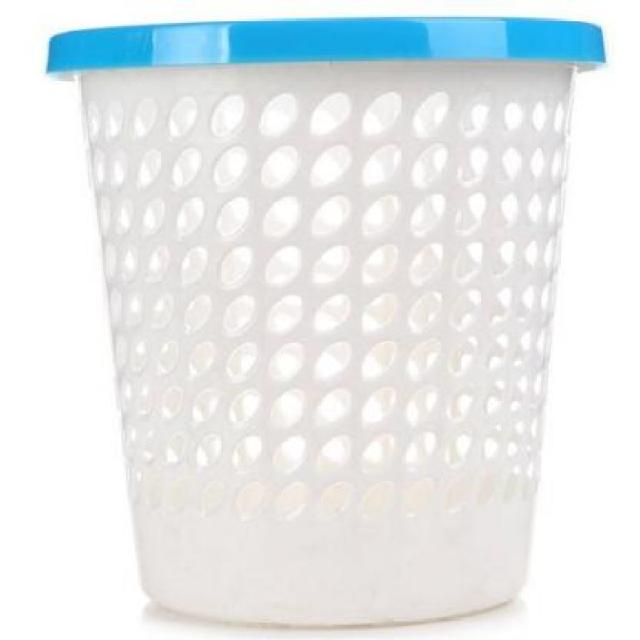dustbin: (41, 13, 617, 632)
